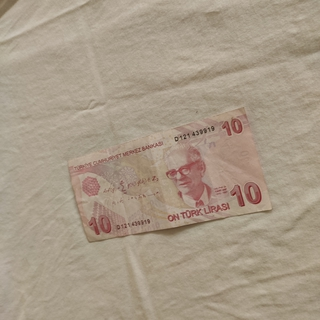10TLBack: (66, 105, 274, 243)
